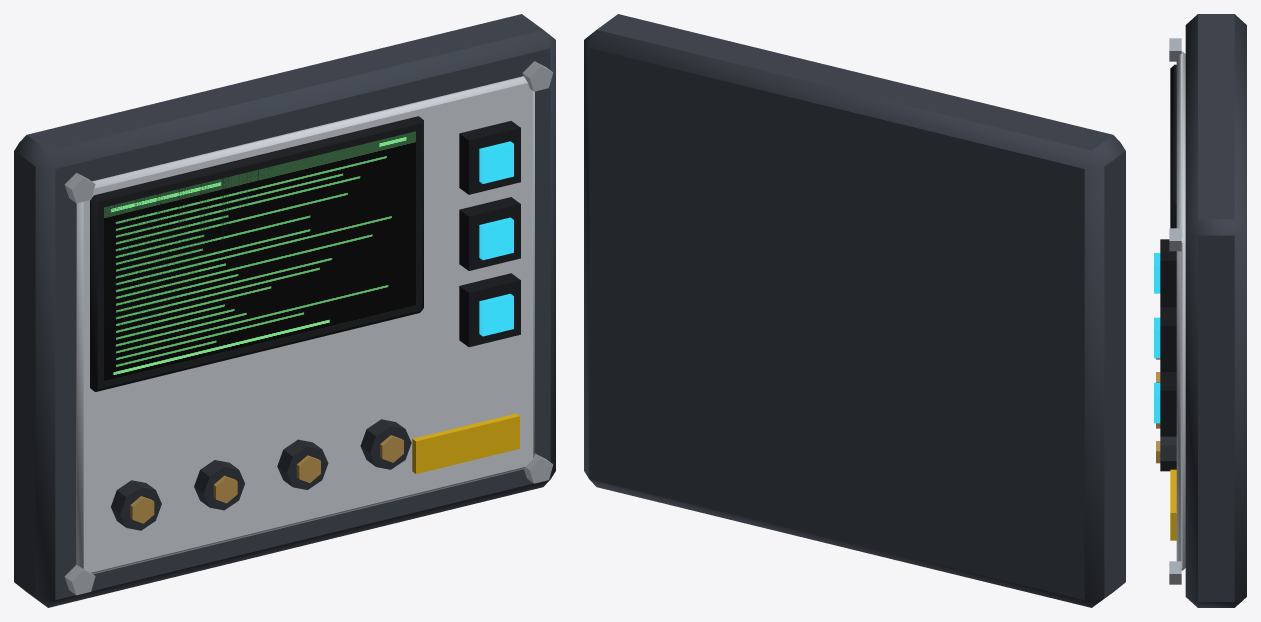
Rendered from junction_diagnostic_port_panel.glb.
The picture shows the model from 3 angles, left to right: view 1: azimuth 30°, elevation 25°; view 2: azimuth 150°, elevation 25°; view 3: azimuth 270°, elevation 25°; orthographic projection. The views are drawn at different scales.
Visible parts, largest first — view 1: junction_diagnostic_port_panel; view 2: junction_diagnostic_port_panel; view 3: junction_diagnostic_port_panel.
Part boxes in pixels (box(x1,y1,x2,y2)): junction_diagnostic_port_panel: box(14, 14, 555, 607); junction_diagnostic_port_panel: box(584, 14, 1125, 607); junction_diagnostic_port_panel: box(1154, 14, 1246, 607).
Size of the model in its own units: 0.5 by 0.42 by 0.091.
9 materials, 1 textured.
